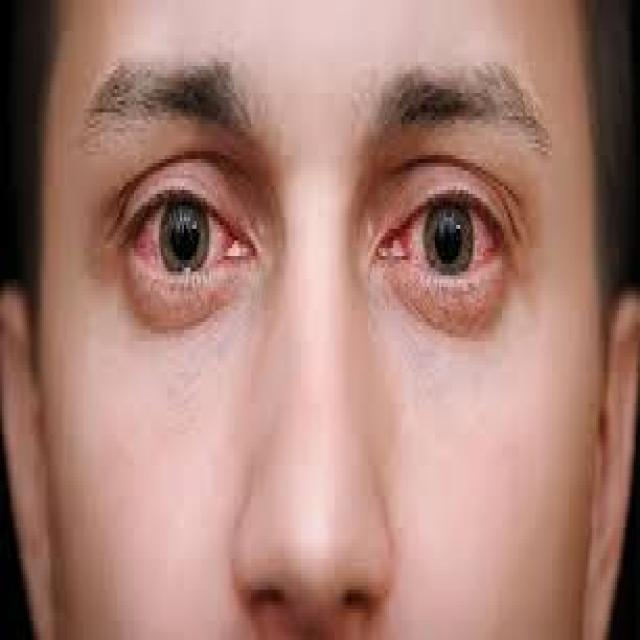Eyes-iris: (420, 187, 473, 283), (154, 193, 210, 278)
